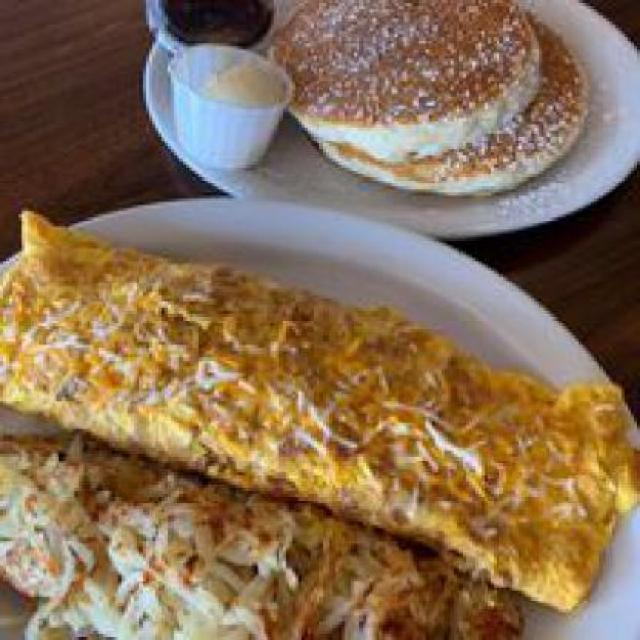ice cream: (184, 43, 285, 152)
omelette: (3, 208, 631, 637)
